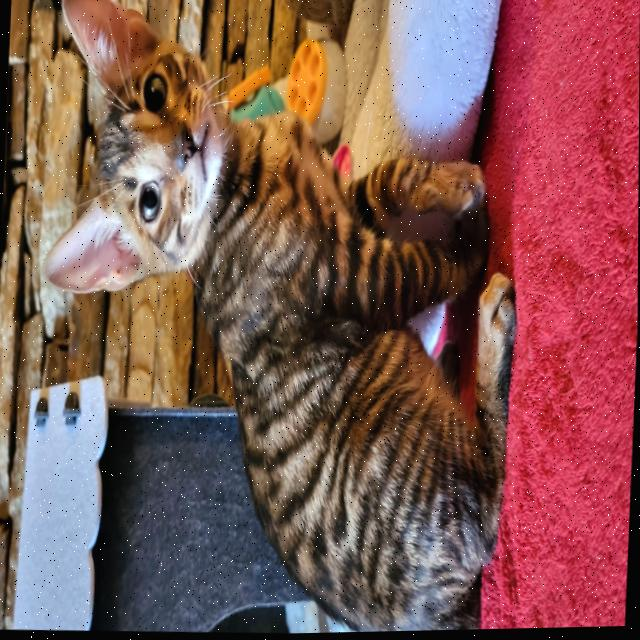Toyger: (23, 0, 533, 640)
